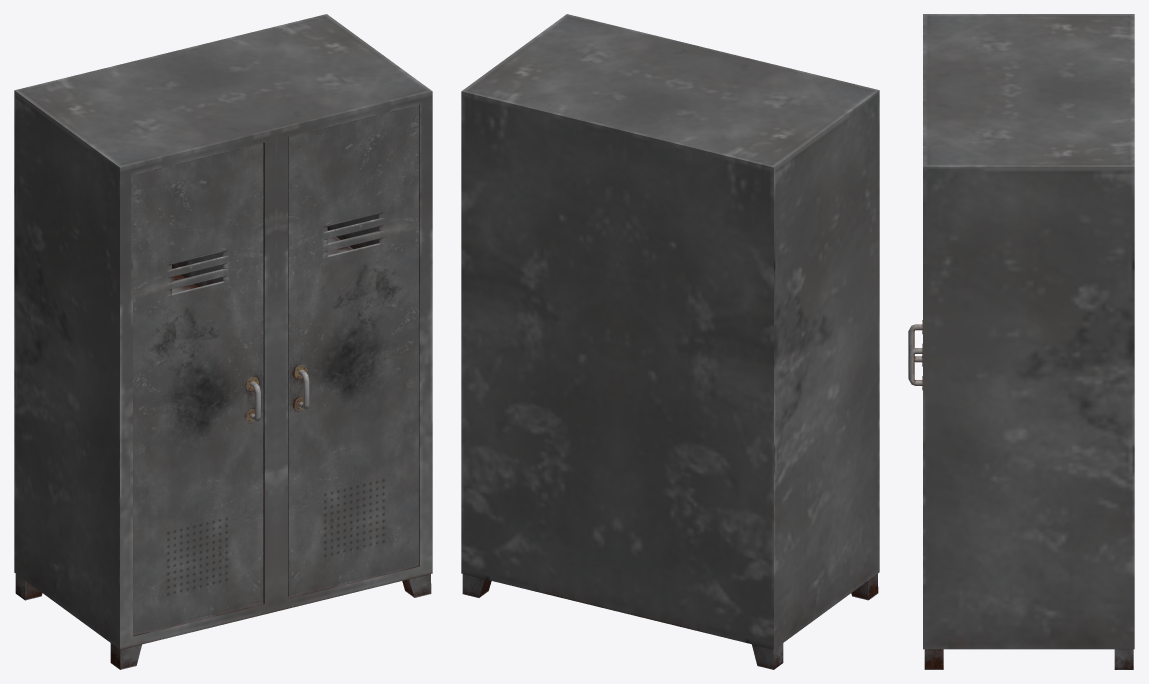
Rendered from Closet.fbx.
The picture shows the model from 3 angles, left to right: view 1: azimuth 30°, elevation 25°; view 2: azimuth 150°, elevation 25°; view 3: azimuth 270°, elevation 25°; orthographic projection.
Parts seen in each view (by area): view 1: defaultMaterial.002, defaultMaterial.001, defaultMaterial.003; view 2: defaultMaterial.002; view 3: defaultMaterial.002, defaultMaterial.001.
Boxes of the visible parts, box(x1,y1,x2,y2) form: defaultMaterial.002: box(14, 14, 432, 669); defaultMaterial.001: box(288, 105, 418, 596); defaultMaterial.003: box(133, 143, 263, 634); defaultMaterial.002: box(461, 14, 879, 669); defaultMaterial.002: box(923, 14, 1134, 669); defaultMaterial.001: box(908, 343, 922, 390).
Size of the model in its own units: 82.12 by 126 by 51.47.
